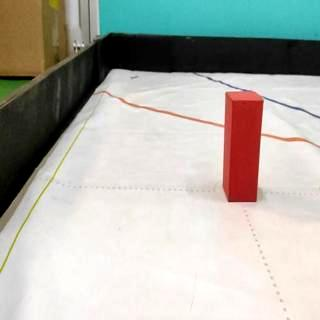redbox: (222, 90, 262, 203)
